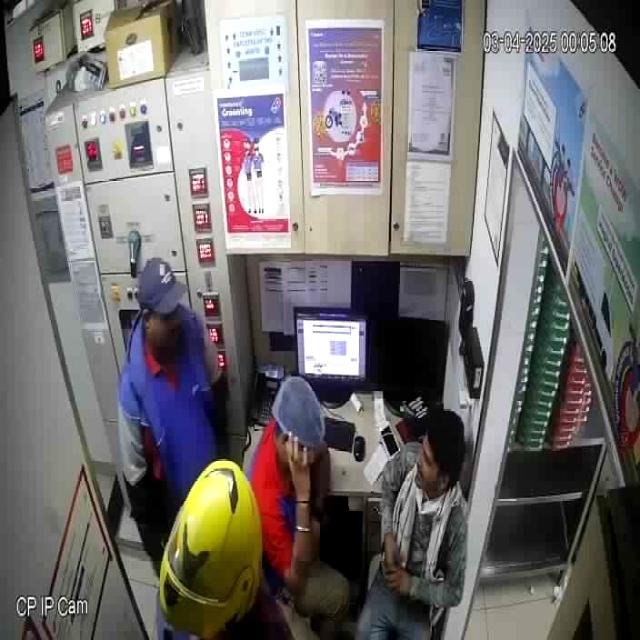helmet: (159, 460, 264, 639)
no_helmet: (269, 374, 327, 464), (414, 408, 467, 500), (137, 257, 187, 348)
